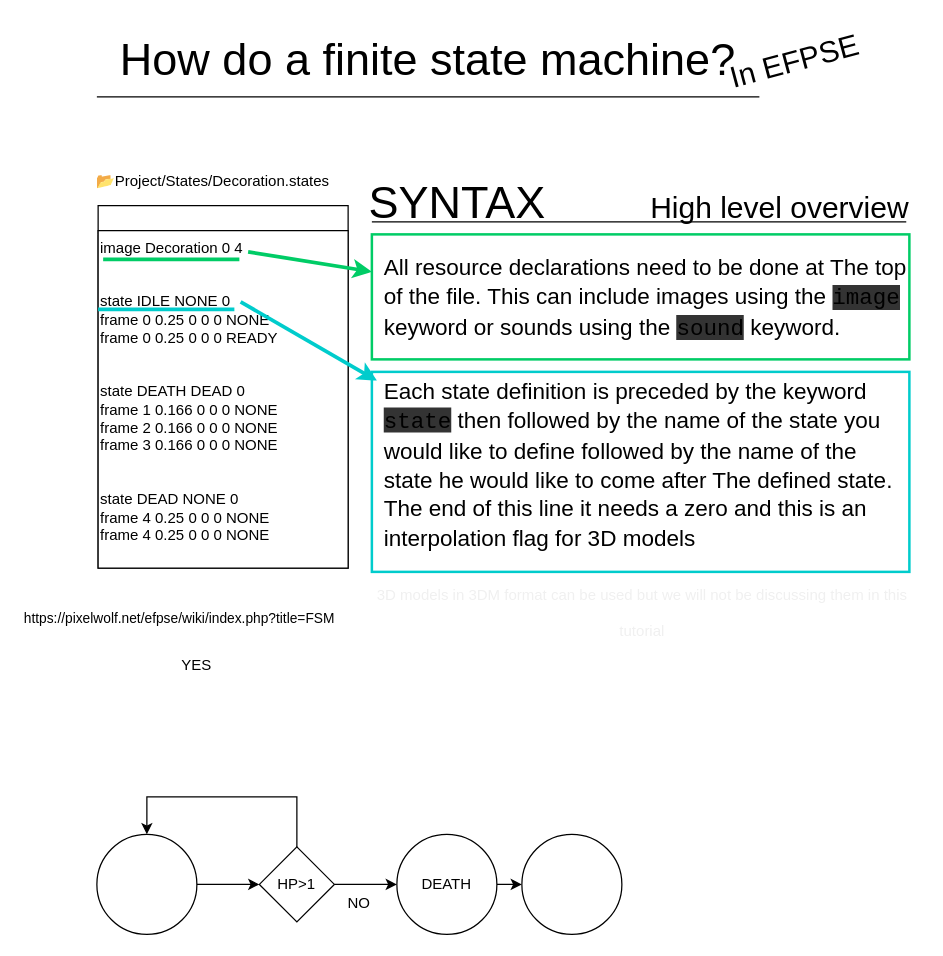
The diagram is 943 pixels wide and 956 high, and some of its shapes have lost their labels. Each missing label, with the box of its shape:
DEAD: (521, 833, 622, 934)
Decoration.states: (97, 204, 348, 568)
IDLE: (96, 833, 197, 934)
